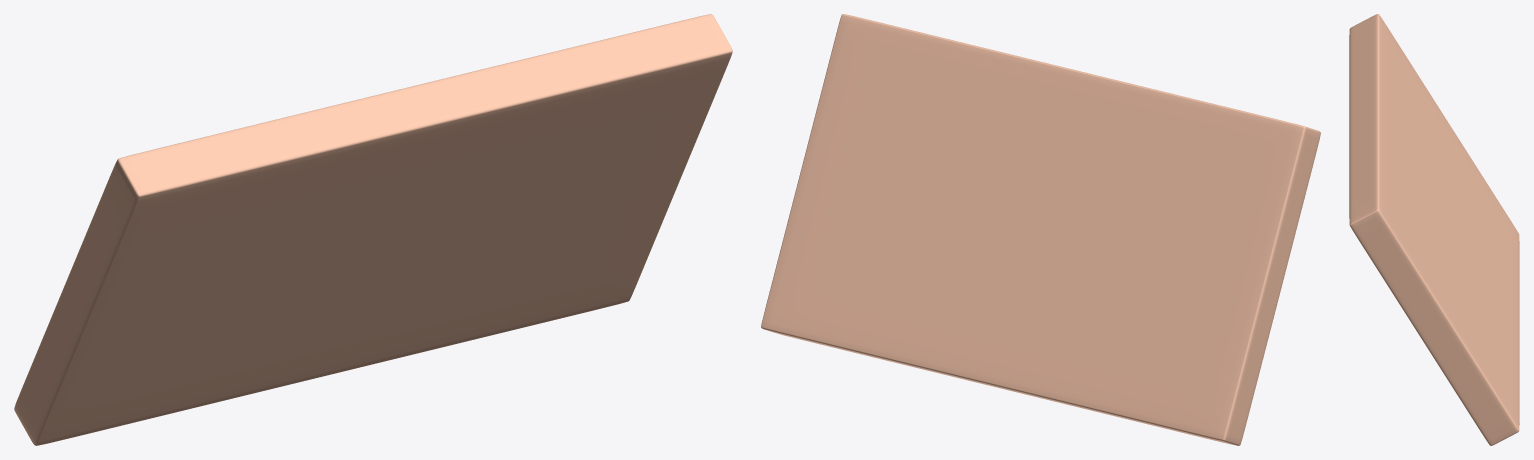
Rendered from control-panel.glb.
3 views of the same model, side by side, from view 1: azimuth 30°, elevation 25°; view 2: azimuth 150°, elevation 25°; view 3: azimuth 270°, elevation 25° (orthographic). The views are drawn at different scales.
Visible parts, largest first — view 1: Control_Panel_geo; view 2: Control_Panel_geo; view 3: Control_Panel_geo.
Part boxes in pixels (box(x1,y1,x2,y2)): Control_Panel_geo: box(14, 14, 732, 445); Control_Panel_geo: box(761, 14, 1320, 445); Control_Panel_geo: box(1349, 14, 1519, 445).
Size of the model in its own units: 1.65 by 0.92 by 0.5992.
